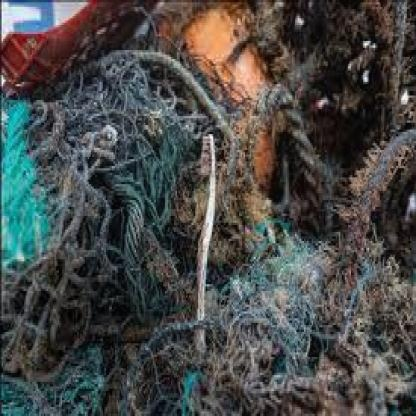net: (10, 54, 408, 416)
